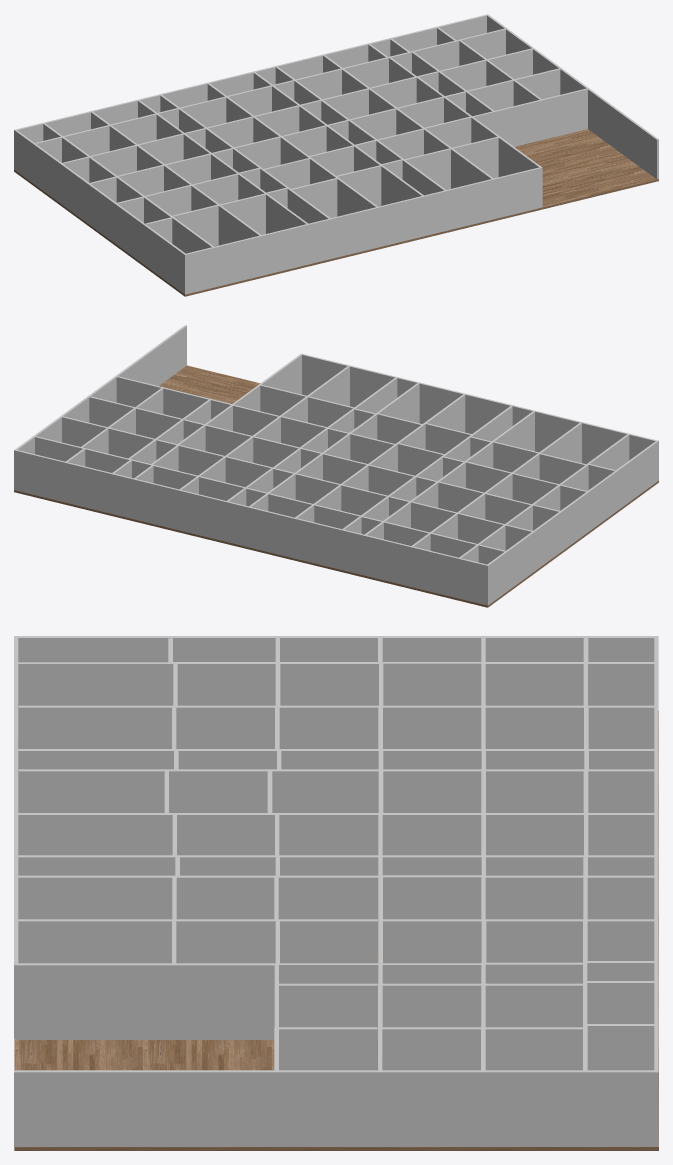
Rendered from Supermarket_Main.glb.
The picture shows the model from 3 angles, top to bottom: view 1: azimuth 30°, elevation 25°; view 2: azimuth 150°, elevation 25°; view 3: azimuth 270°, elevation 25°; orthographic projection. The views are drawn at different scales.
Visible parts, largest first — view 1: SM, Node3D, MeshInstance3D9, MeshInstance3D10, MeshInstance3D11, MeshInstance3D8, 5a, 35a, 12a, 44a, 28a, 14a (+15 smaller); view 2: SM, MeshInstance3D11, Node3D, MeshInstance3D10, MeshInstance3D9, MeshInstance3D8, 34a, 10a, 5a, 35a, 14a, 37a (+13 smaller); view 3: SM, MeshInstance3D8, MeshInstance3D10, MeshInstance3D9, 16a, 40a, 16b, 21b, 3a, 15b, 56a, 57a (+31 smaller).
Part boxes in pixels (x1,y1,x2,y2): SM: (35, 28, 587, 253); Node3D: (186, 167, 540, 293); MeshInstance3D9: (14, 129, 658, 296); MeshInstance3D10: (14, 130, 186, 294); MeshInstance3D11: (14, 14, 487, 142); MeshInstance3D8: (486, 14, 658, 179); 5a: (451, 136, 498, 178); 35a: (290, 178, 337, 217); 12a: (405, 148, 451, 189); 44a: (218, 193, 265, 234); 28a: (336, 165, 382, 206); 14a: (348, 108, 396, 139); SM: (34, 353, 629, 564); MeshInstance3D11: (14, 449, 488, 604); Node3D: (302, 354, 656, 463); MeshInstance3D10: (486, 440, 658, 605); MeshInstance3D9: (14, 365, 658, 607); MeshInstance3D8: (14, 325, 186, 490); 34a: (398, 443, 445, 475); 10a: (205, 425, 253, 455); 5a: (260, 384, 307, 415); 35a: (425, 423, 472, 453); 14a: (253, 436, 299, 467); 37a: (341, 484, 389, 515); SM: (14, 637, 655, 1071); MeshInstance3D8: (14, 1070, 658, 1146); MeshInstance3D10: (14, 636, 658, 662); MeshInstance3D9: (14, 711, 658, 1150); 16a: (276, 875, 378, 952); 40a: (277, 769, 379, 812); 16b: (379, 875, 481, 919); 21b: (483, 875, 584, 919); 3a: (279, 983, 377, 1027); 15b: (176, 875, 275, 919); 56a: (172, 662, 275, 705); 57a: (275, 662, 378, 705).
Bounding box in the file's own units: 40.01 × 3.37 × 25.01.
Materials: 1 (1 with a texture image).
